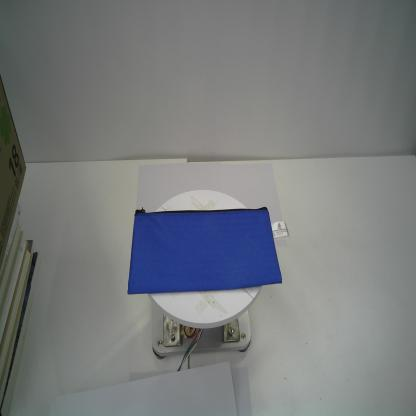Stationery: (127, 206, 283, 295)
